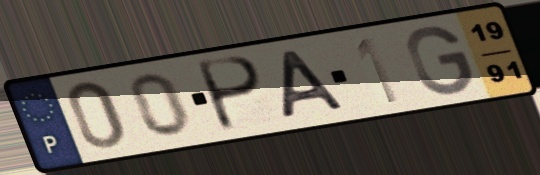0: (64, 78, 131, 153), (128, 69, 196, 141)
1: (354, 35, 403, 104)
A: (281, 47, 351, 123)
G: (403, 23, 477, 98)
P: (196, 54, 267, 135)
